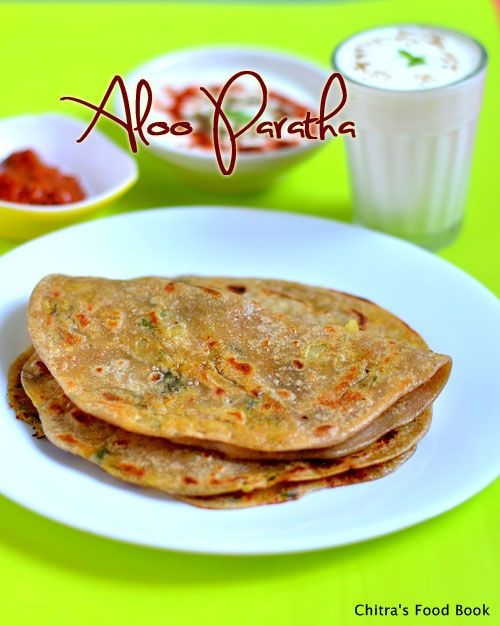aloo_paratha: (9, 272, 453, 513)
